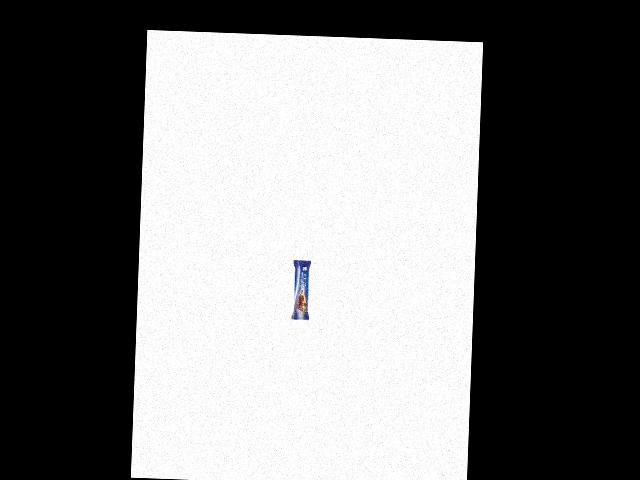chocolate: (290, 258, 317, 328)
